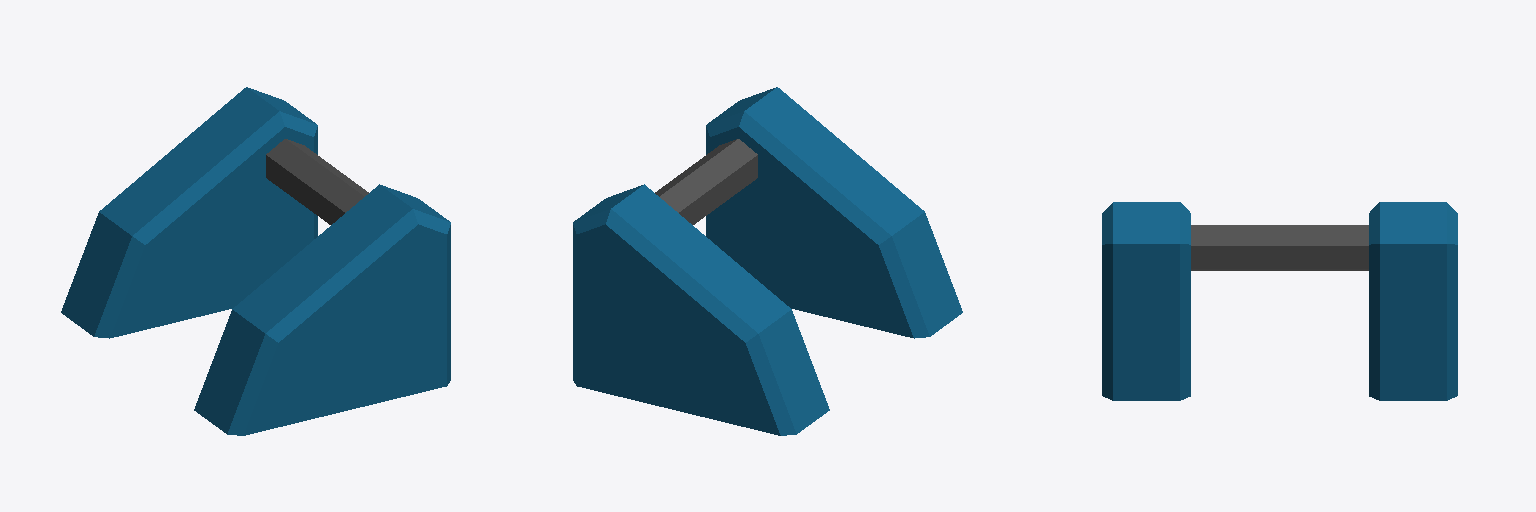
File: Spacestation_Structure_Flap_Base.obj
3 views of the same model, side by side, from view 1: azimuth 30°, elevation 25°; view 2: azimuth 150°, elevation 25°; view 3: azimuth 270°, elevation 25° (orthographic).
Parts seen in each view (by area): view 1: object2, object1, object3; view 2: object1, object2, object3; view 3: object1, object2, object3.
Part boxes in pixels (x1,y1,x2,y2): object2: (194, 184, 450, 435); object1: (61, 87, 317, 338); object3: (266, 139, 368, 224); object1: (573, 184, 829, 435); object2: (706, 87, 962, 338); object3: (655, 139, 757, 224); object1: (1369, 202, 1457, 400); object2: (1102, 202, 1190, 400); object3: (1191, 225, 1368, 270).
Bounding box in the file's own units: 0.8742 × 0.6732 × 1.2.